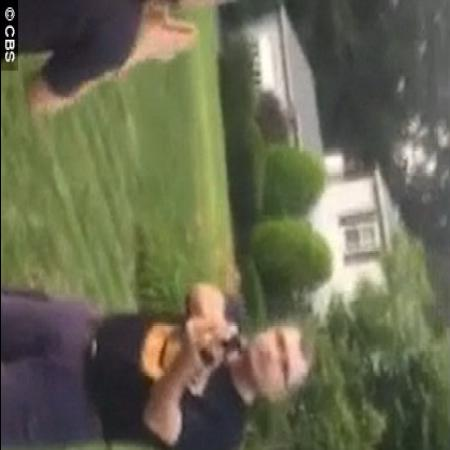Pistol: (207, 326, 247, 362)
